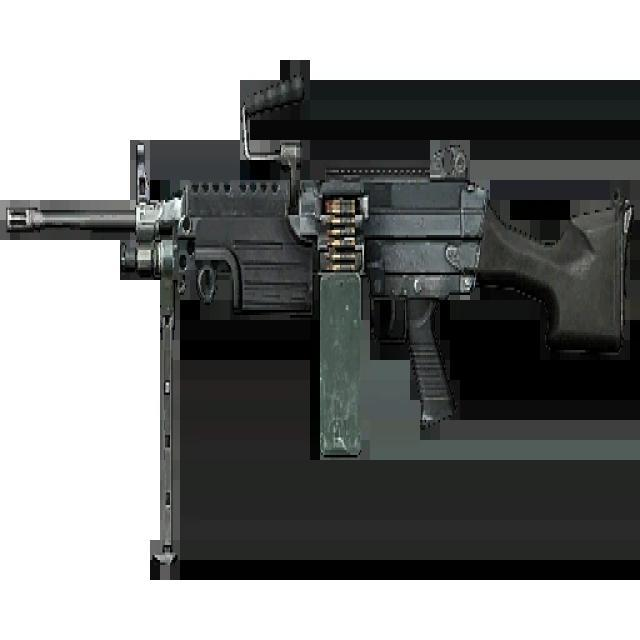weapon: (5, 73, 636, 568)
